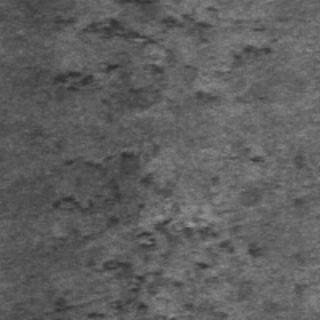rolled pit: (61, 174, 261, 304), (62, 3, 266, 92)
